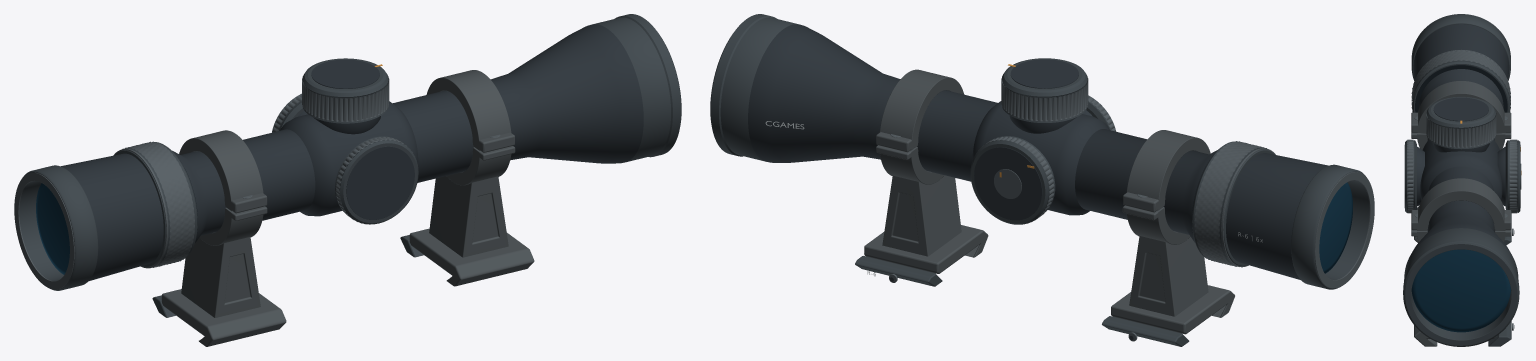
Rendered from R6_6x_Scope_A5_Rail.fbx.
The picture shows the model from 3 angles, left to right: view 1: azimuth 30°, elevation 25°; view 2: azimuth 150°, elevation 25°; view 3: azimuth 270°, elevation 25°; orthographic projection. The views are drawn at different scales.
Parts seen in each view (by area): view 1: 01 MAIN SHELL, 02 FRONT COLLAR, 07 SUPPORT 1, 07 SUPPORT 2, 02d REAR COLLAR, 03 CENTRE BODY, 05 LEFT FACE, 08.1 LOCAL BASE FIXED EDGE, 08.2 LOCAL BASE FIXED EDGE, 13 FOCUS DIAMOND DEPRESSIONS, 06 RING 1 UPPER, 06 RING 2 UPPER (+12 smaller); view 2: 01 MAIN SHELL, 02 FRONT COLLAR, 07 SUPPORT 1, 07 SUPPORT 2, 02d REAR COLLAR, 03 CENTRE BODY, 05 RIGHT FACE, 13 FOCUS DIAMOND DEPRESSIONS, 06 RING 1 UPPER, 06 RING 2 UPPER, 08.2 LOCAL BASE FIXED EDGE, 08.1 LOCAL BASE FIXED EDGE (+15 smaller); view 3: 11 FRONT VISUAL PANE, 01 MAIN SHELL, 02 FRONT COLLAR, 06 RING 1 UPPER, 03 CENTRE BODY, 06 RING 2 UPPER, 04c TOP GRIP VALLEYS, 02d REAR COLLAR, 13 FOCUS DIAMOND DEPRESSIONS, 04d TOP FACE, 04b TOP CAP, 02g FOCUS COLLAR (+17 smaller).
Part boxes in pixels (left/top/right/bottom): 01 MAIN SHELL: left=61, top=24, right=643, bottom=280; 02 FRONT COLLAR: left=592, top=14, right=681, bottom=162; 07 SUPPORT 1: left=429, top=176, right=508, bottom=257; 07 SUPPORT 2: left=181, top=237, right=260, bottom=317; 02d REAR COLLAR: left=19, top=165, right=98, bottom=290; 03 CENTRE BODY: left=280, top=101, right=418, bottom=216; 05 LEFT FACE: left=346, top=146, right=414, bottom=219; 08.1 LOCAL BASE FIXED EDGE: left=409, top=228, right=534, bottom=286; 08.2 LOCAL BASE FIXED EDGE: left=161, top=289, right=286, bottom=346; 13 FOCUS DIAMOND DEPRESSIONS: left=122, top=141, right=194, bottom=268; 06 RING 1 UPPER: left=426, top=70, right=511, bottom=150; 06 RING 2 UPPER: left=179, top=130, right=263, bottom=211; 01 MAIN SHELL: left=748, top=24, right=1328, bottom=279; 02 FRONT COLLAR: left=710, top=14, right=797, bottom=161; 07 SUPPORT 1: left=882, top=175, right=961, bottom=256; 07 SUPPORT 2: left=1129, top=236, right=1208, bottom=316; 02d REAR COLLAR: left=1291, top=164, right=1369, bottom=289; 03 CENTRE BODY: left=972, top=101, right=1109, bottom=215; 05 RIGHT FACE: left=974, top=147, right=1042, bottom=220; 13 FOCUS DIAMOND DEPRESSIONS: left=1194, top=141, right=1266, bottom=266; 06 RING 1 UPPER: left=879, top=69, right=964, bottom=150; 06 RING 2 UPPER: left=1126, top=130, right=1210, bottom=210; 08.2 LOCAL BASE FIXED EDGE: left=1111, top=285, right=1234, bottom=334; 08.1 LOCAL BASE FIXED EDGE: left=864, top=225, right=988, bottom=273; 11 FRONT VISUAL PANE: left=1411, top=249, right=1510, bottom=332; 01 MAIN SHELL: left=1405, top=24, right=1517, bottom=268; 02 FRONT COLLAR: left=1403, top=228, right=1519, bottom=346; 06 RING 1 UPPER: left=1417, top=178, right=1505, bottom=230; 03 CENTRE BODY: left=1420, top=139, right=1502, bottom=200; 06 RING 2 UPPER: left=1417, top=81, right=1505, bottom=133; 04c TOP GRIP VALLEYS: left=1426, top=113, right=1496, bottom=147; 02d REAR COLLAR: left=1411, top=14, right=1510, bottom=80; 13 FOCUS DIAMOND DEPRESSIONS: left=1411, top=50, right=1510, bottom=112; 04d TOP FACE: left=1433, top=97, right=1488, bottom=121; 04b TOP CAP: left=1426, top=96, right=1495, bottom=149; 02g FOCUS COLLAR: left=1412, top=50, right=1510, bottom=112.
Size of the model in its own units: 30.3 by 10.44 by 6.42.
